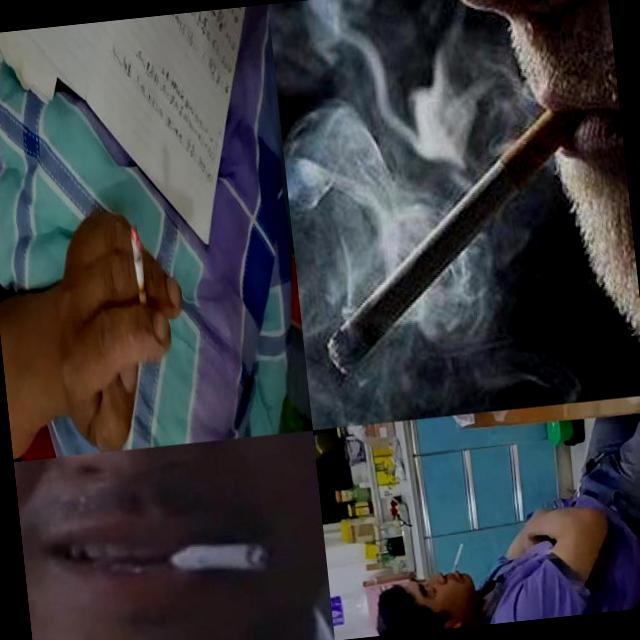cigarette: (302, 102, 602, 379), (160, 536, 271, 580), (129, 224, 149, 318), (448, 544, 465, 574)
